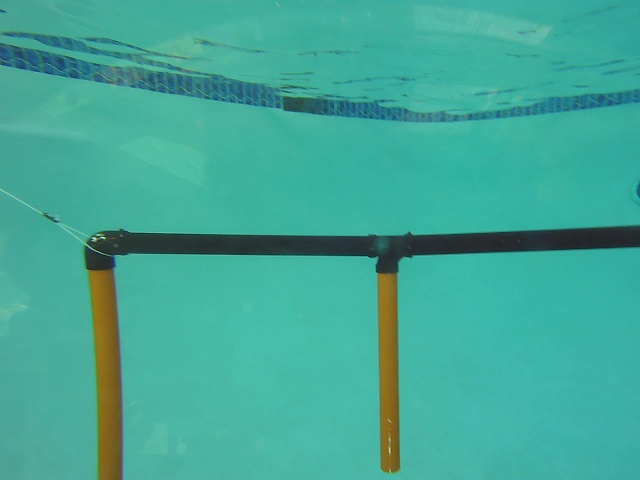Gate: (82, 265, 130, 480), (378, 265, 401, 477)
